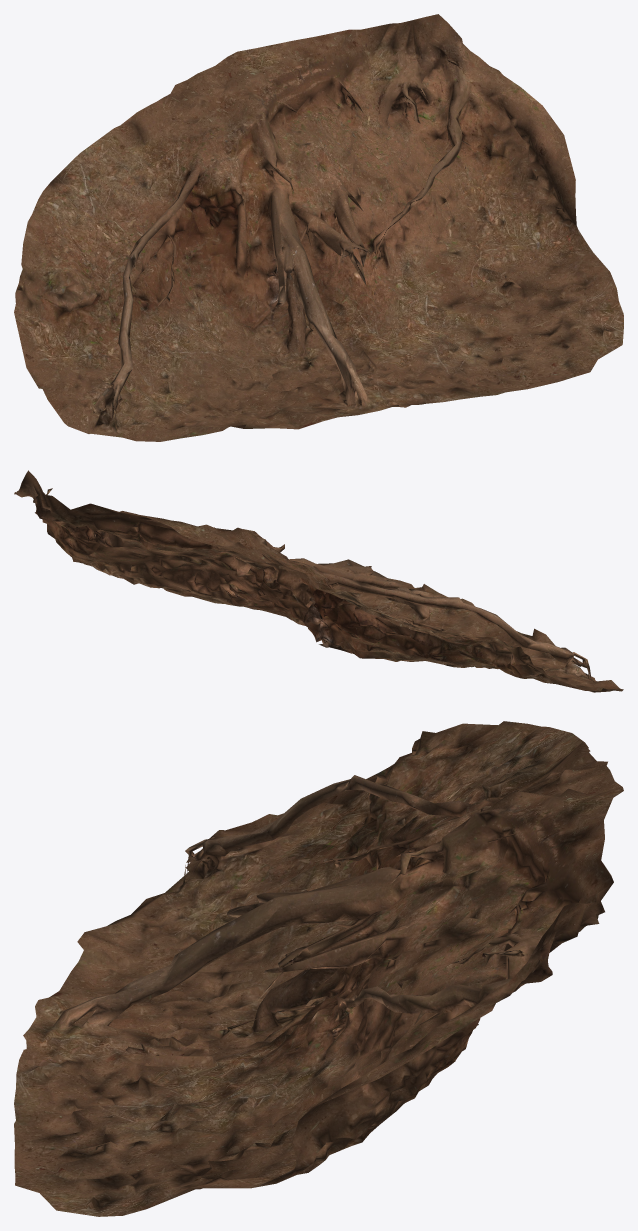
The model's file is root_cluster_01.glb.
3 views of the same model, one above another, from view 1: azimuth 30°, elevation 25°; view 2: azimuth 150°, elevation 25°; view 3: azimuth 270°, elevation 25° (orthographic). The views are drawn at different scales.
Visible parts, largest first — view 1: root_cluster_01; view 2: root_cluster_01; view 3: root_cluster_01.
Part boxes in pixels (box(x1,y1,x2,y2)): root_cluster_01: box(14, 14, 623, 441); root_cluster_01: box(14, 470, 623, 692); root_cluster_01: box(14, 721, 623, 1216).
Size of the model in its own units: 4.12 by 1.51 by 2.68.
1 material, 1 textured.
